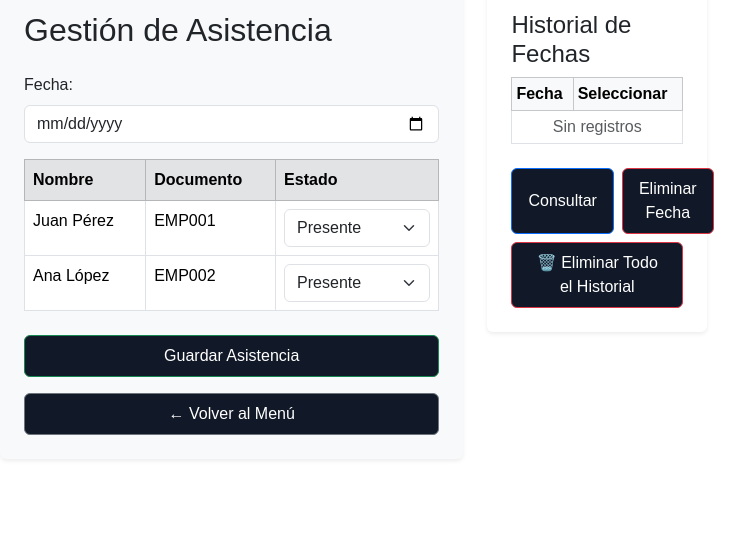
GestionAsistencia › muestra mensaje si intenta guardar sin fecha
Expected: the text "Juan Pérez" is shown, left=24, top=201, right=146, bottom=256
Click the button "Guardar Asistencia" at (232, 356), box left=24, top=335, right=439, bottom=377
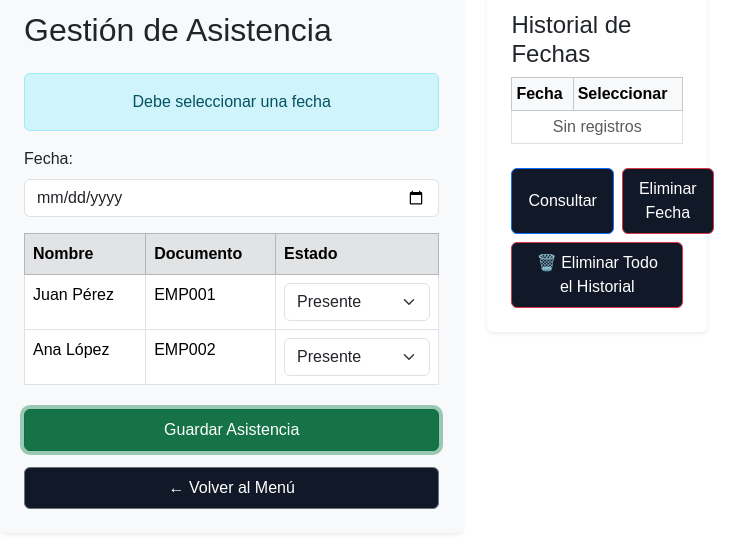
Expected: the text "Debe seleccionar una fecha" is shown, left=24, top=73, right=439, bottom=131
